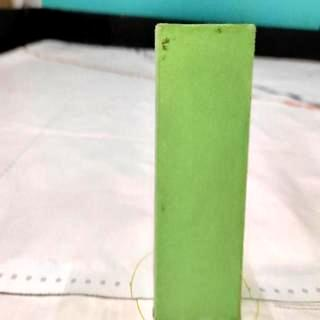greenbox: (155, 24, 257, 320)
